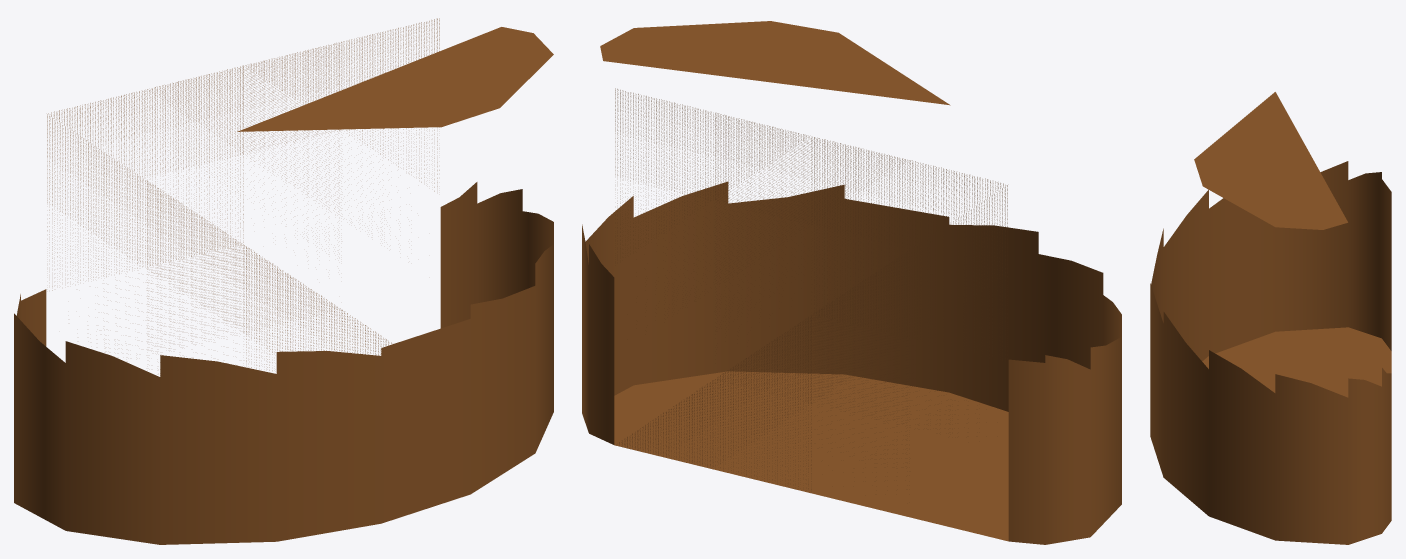
File: goggles.obj
3 views of the same model, side by side, from view 1: azimuth 30°, elevation 25°; view 2: azimuth 150°, elevation 25°; view 3: azimuth 270°, elevation 25° (orthographic). The views are drawn at different scales.
Parts seen in each view (by area): view 1: Cylinder; view 2: Cylinder; view 3: Cylinder.
Part boxes in pixels (<box>): Cylinder: <box>14,18,553,544</box>; Cylinder: <box>582,21,1121,544</box>; Cylinder: <box>1150,92,1391,544</box>.
Bounding box in the file's own units: 1.49 × 1 × 0.6987.
